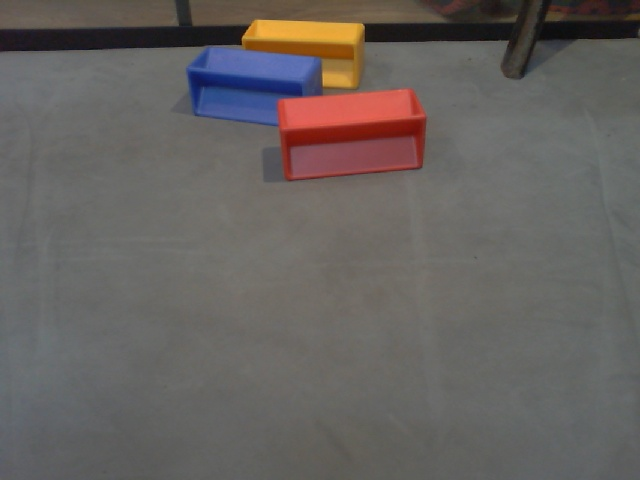BlueSample: (187, 43, 320, 128)
RedSample: (277, 88, 428, 183)
YellowSample: (240, 16, 369, 91)
